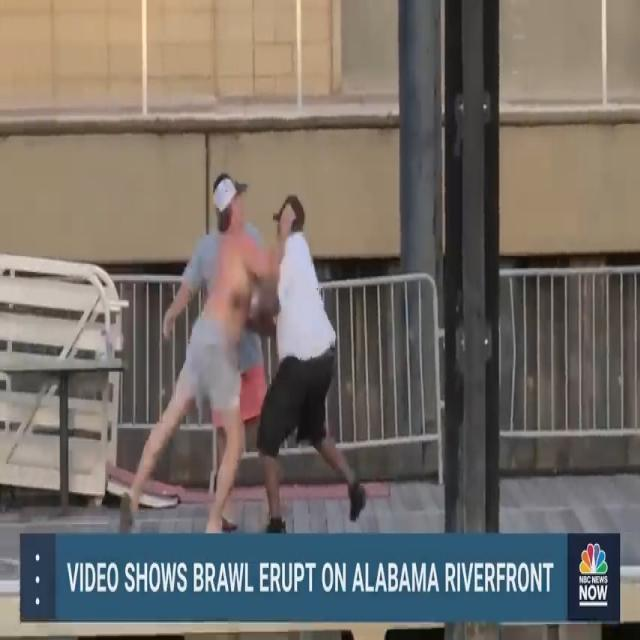fight: (110, 158, 404, 536)
